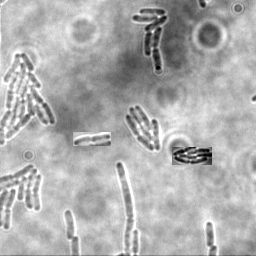Dividing: (114, 161, 133, 255), (73, 132, 111, 146), (204, 221, 215, 248)
Microcolony: (1, 51, 56, 147), (1, 162, 44, 231), (130, 8, 167, 72), (124, 106, 160, 153), (172, 147, 212, 165), (63, 208, 74, 240)
